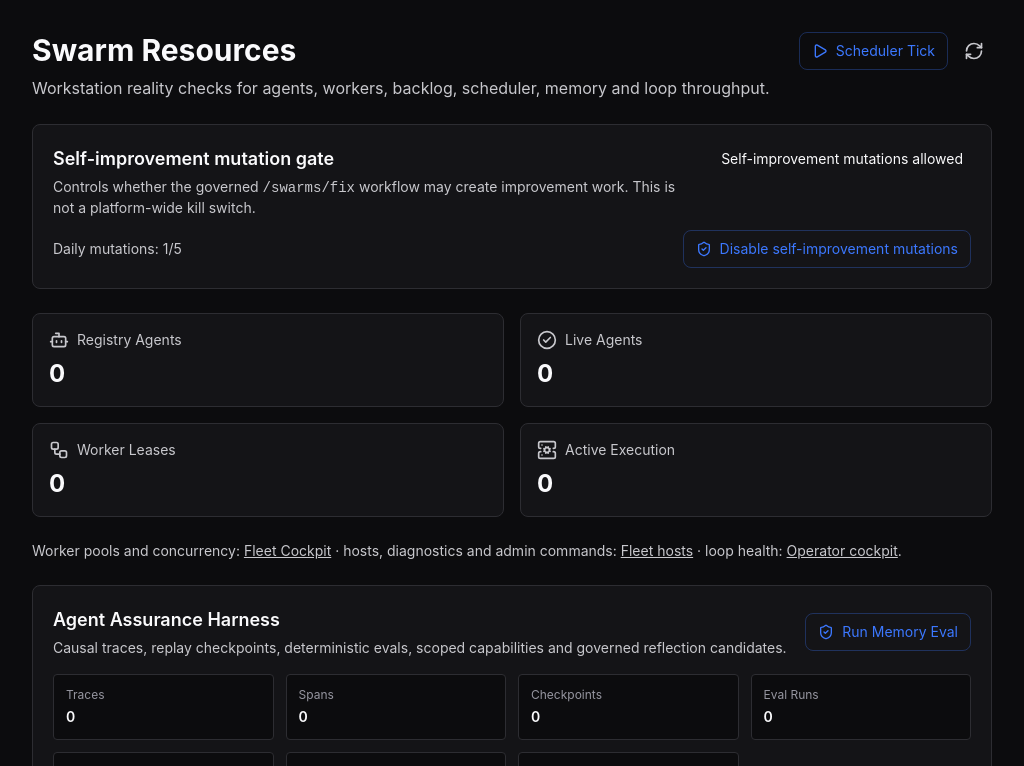
Scenario: reads and persists the governed self-improvement mutation gate for authorized operators
Expected: the message reads "Self-improvement mutations allowed", left=713, top=145, right=971, bottom=173
Click the button "Disable self-improvement mutations" at (827, 249), box left=683, top=230, right=971, bottom=268
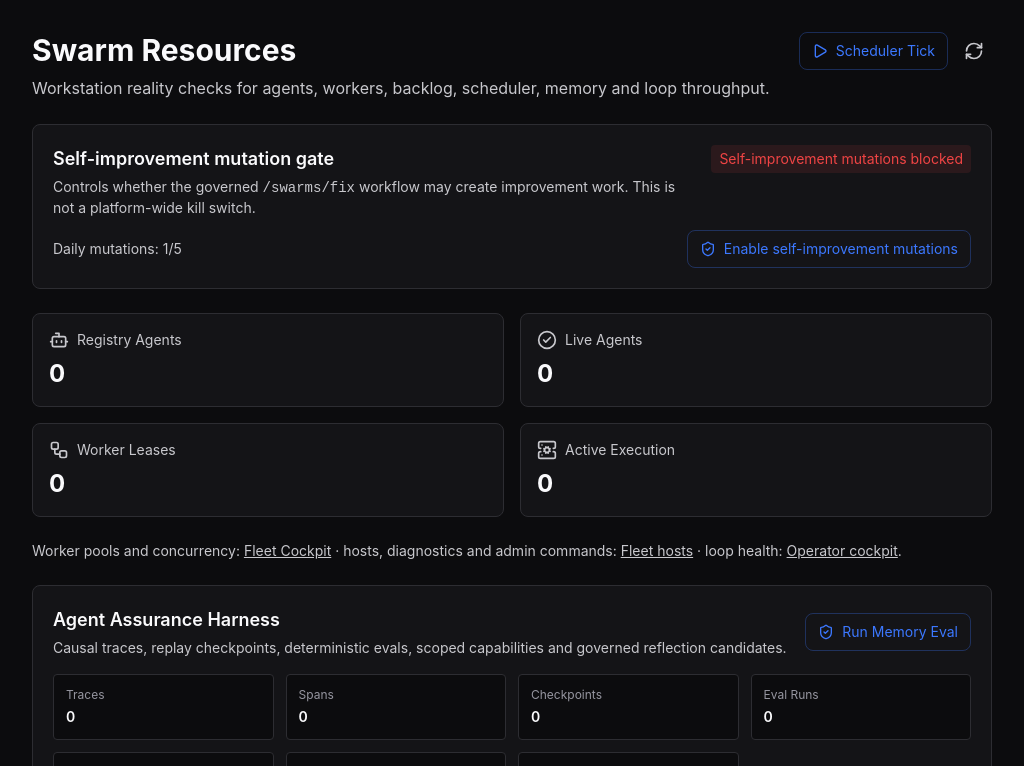
Result: the message reads "Self-improvement mutations blocked" at left=711, top=145, right=971, bottom=173
